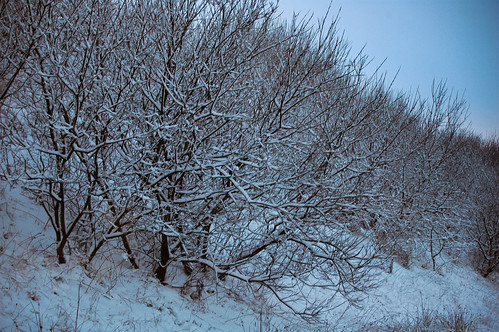vegetation: (7, 1, 498, 297)
